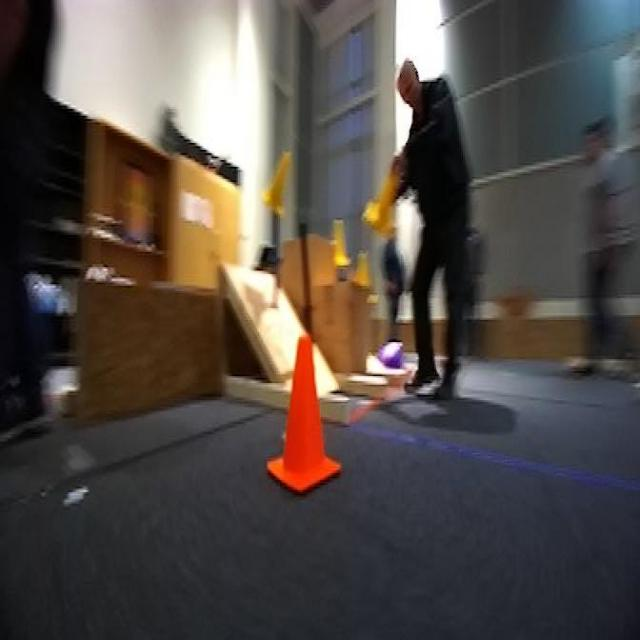frc_cone: (356, 158, 403, 233), (263, 144, 292, 214), (330, 211, 350, 276), (351, 242, 372, 300)
frc_cube: (377, 340, 402, 370)
